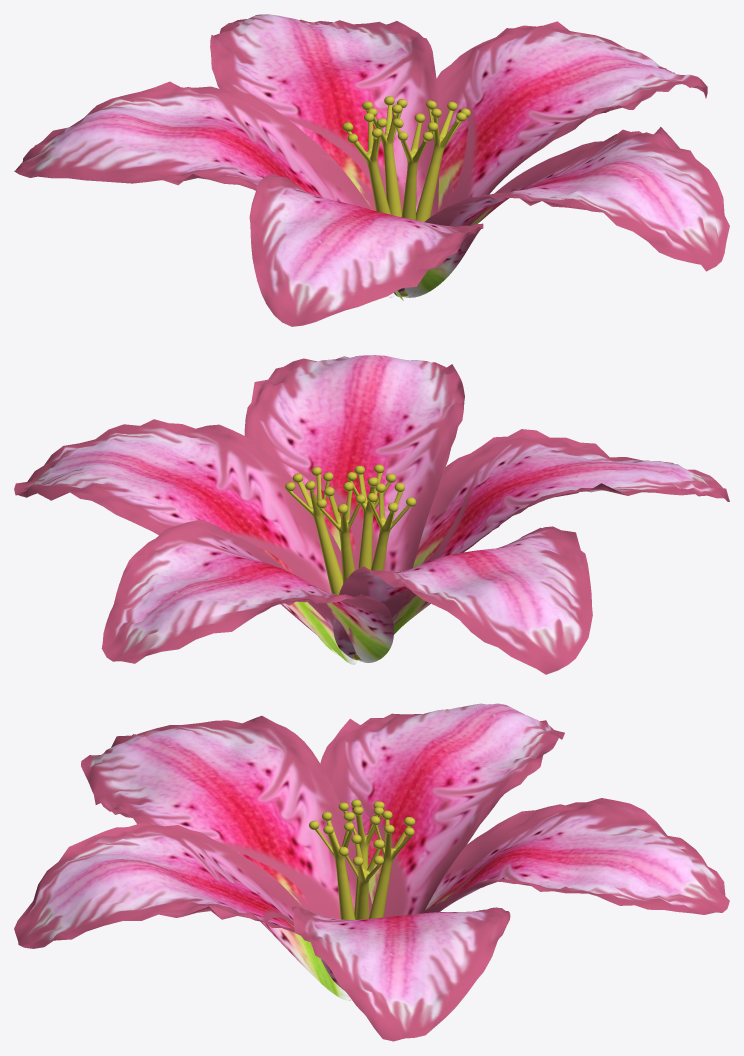
File: Cactus_flower.fbx
3 views of the same model, one above another, from view 1: azimuth 30°, elevation 25°; view 2: azimuth 150°, elevation 25°; view 3: azimuth 270°, elevation 25° (orthographic).
Parts seen in each view (by area): view 1: Flower; view 2: Flower; view 3: Flower.
Part boxes in pixels (<box>): Flower: <box>14,14,729,326</box>; Flower: <box>14,355,729,674</box>; Flower: <box>14,703,729,1041</box>.
Size of the model in its own units: 585 by 171 by 589.
